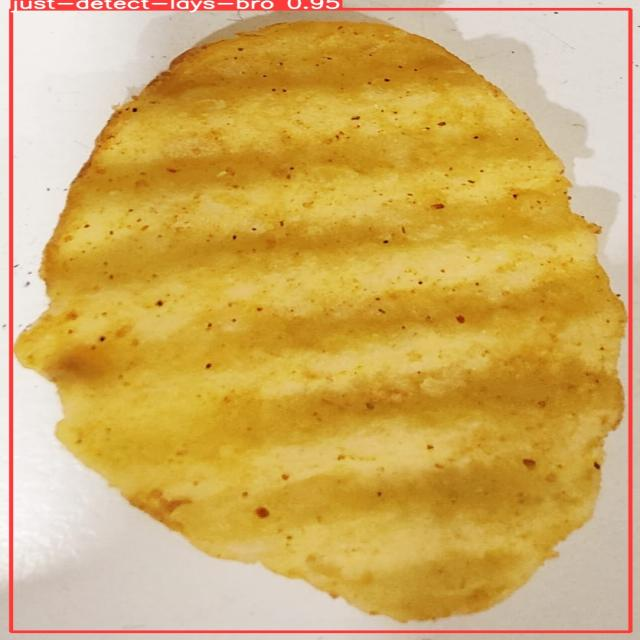Wet Waste: (28, 20, 620, 623)
